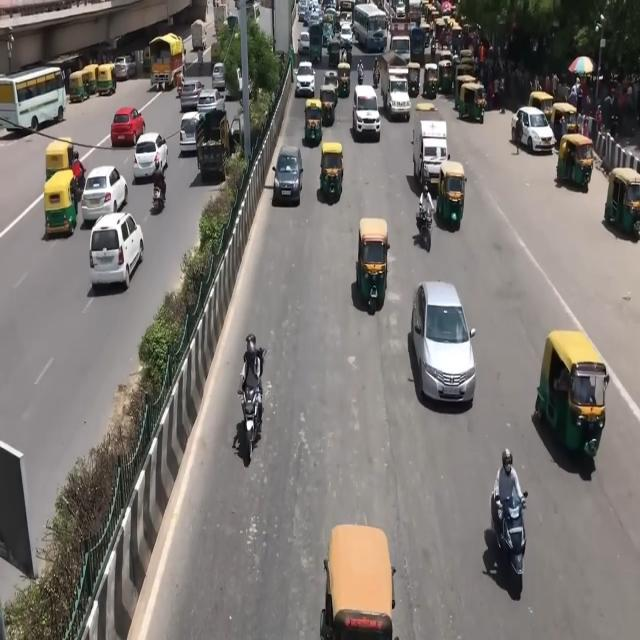auto: (536, 329, 609, 458), (322, 524, 396, 640), (355, 218, 389, 309), (603, 165, 639, 239), (196, 107, 230, 183), (556, 132, 595, 192), (44, 170, 78, 238), (436, 160, 468, 230), (272, 145, 302, 206), (319, 142, 343, 200), (45, 138, 74, 185), (457, 79, 487, 124), (317, 80, 339, 136), (551, 102, 578, 146), (528, 90, 554, 127), (454, 57, 475, 101), (304, 100, 324, 143), (68, 70, 90, 104), (96, 63, 118, 96), (422, 62, 439, 100), (438, 58, 454, 96), (82, 63, 100, 95), (323, 70, 339, 103), (337, 62, 351, 99), (407, 62, 421, 99), (327, 38, 341, 68)
bike-auto: (489, 448, 529, 616), (235, 332, 269, 459), (416, 196, 434, 250), (152, 170, 166, 211), (372, 61, 380, 88), (357, 61, 364, 84)
